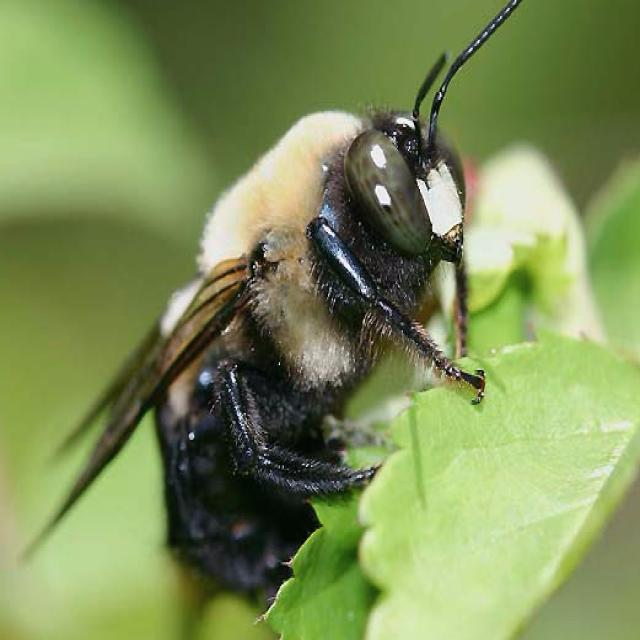Allodapula: (26, 9, 494, 597)
